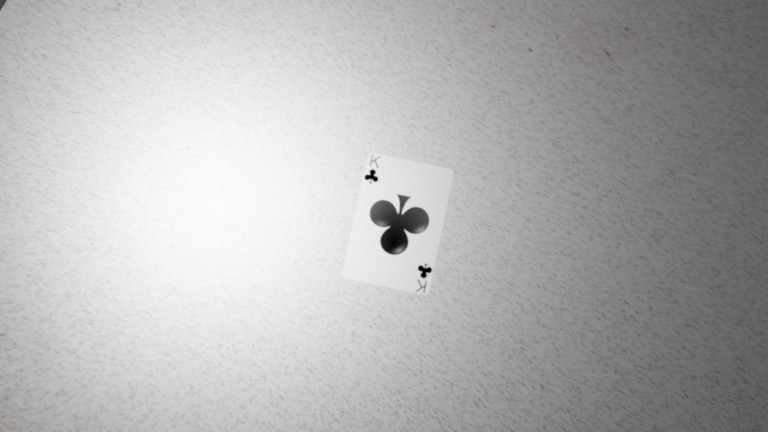king_of_clubs: (412, 261, 434, 294), (362, 153, 384, 186)
